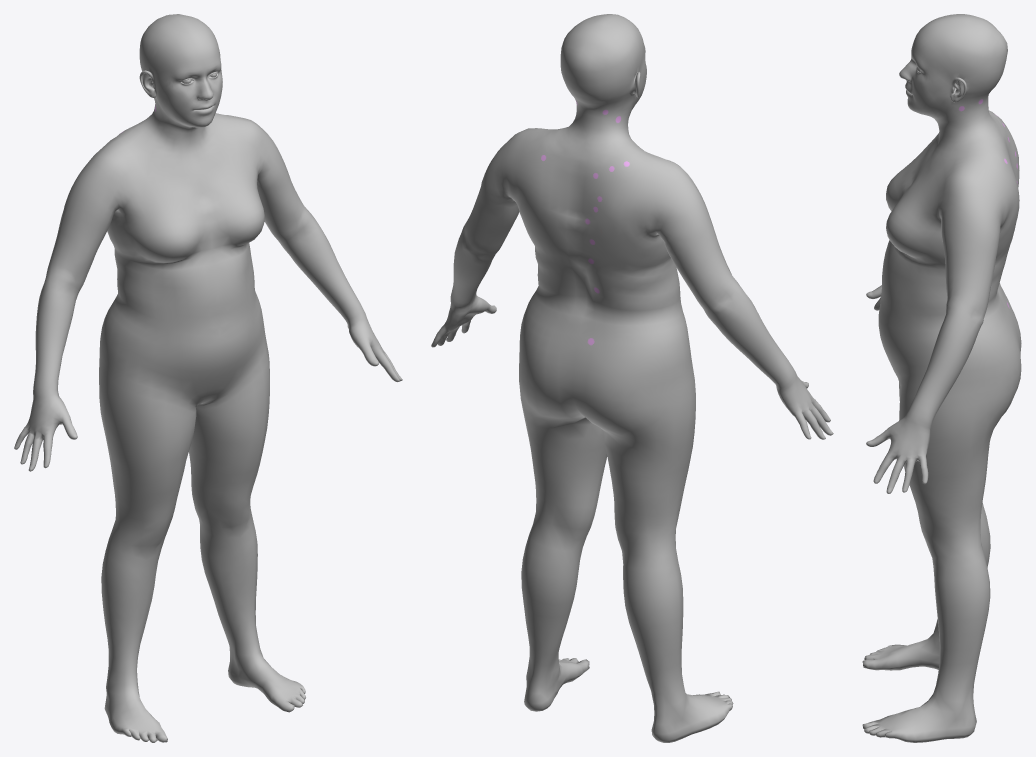
Rendered from 50707771-needles.gltf.
3 renders of one model, left to right at view 1: azimuth 30°, elevation 25°; view 2: azimuth 150°, elevation 25°; view 3: azimuth 270°, elevation 25°, orthographic. The views are drawn at different scales.
Parts seen in each view (by area): view 1: Female 62in 150lbs; view 2: Female 62in 150lbs; view 3: Female 62in 150lbs.
Boxes of the visible parts, bbox=[...] form: Female 62in 150lbs: bbox=[14, 14, 402, 742]; Female 62in 150lbs: bbox=[431, 14, 833, 742]; Female 62in 150lbs: bbox=[862, 14, 1021, 742].
Size of the model in its own units: 2.73 by 4.73 by 0.9921.
Materials: 1 (1 with a texture image).
